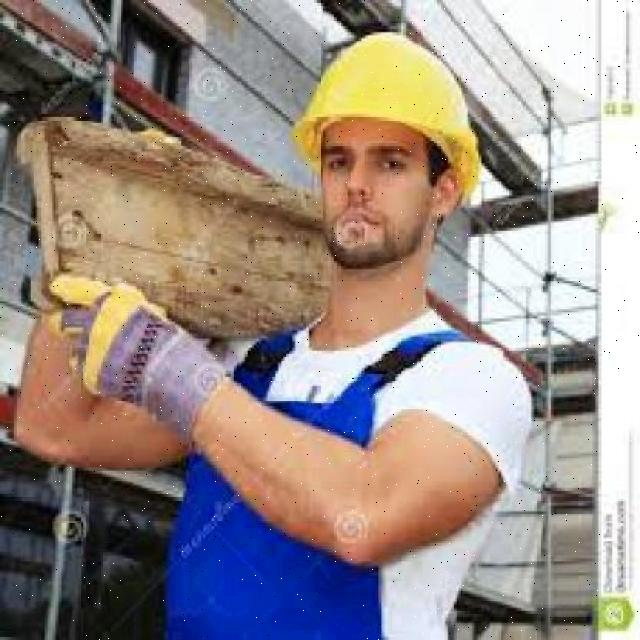Hard_hat: (283, 23, 482, 157)
